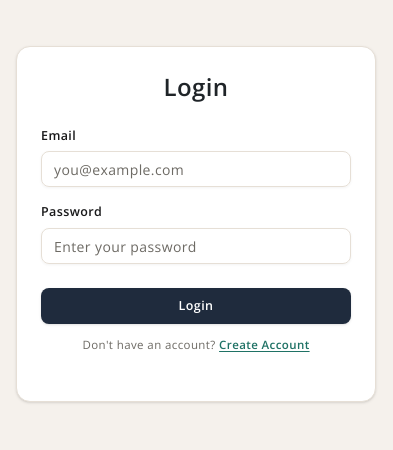
Scenario: LoginPage › shows an API error message on failed login
Type "ada@example.com" into the field labelled "Email" at point(196, 169), box [41,151,351,187]
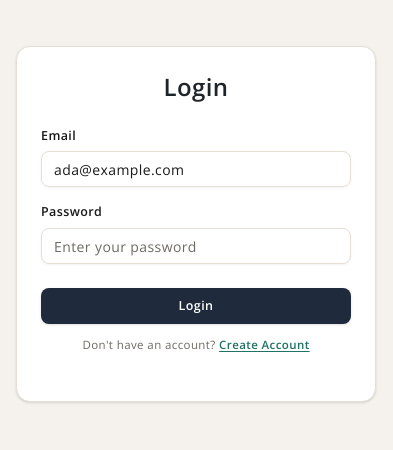
Type "Secret123" into the password field labelled "Password" at point(196, 246), box [41,228,351,264]
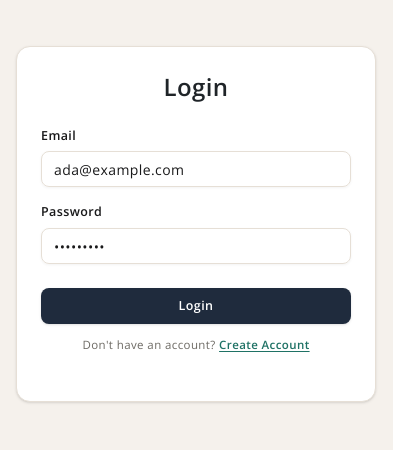
Click the button "Login" at point(196, 306), box [41,288,351,324]
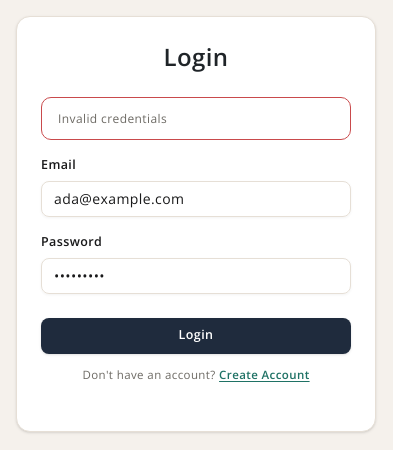
Check: the text "Invalid credentials" is shown, box [58,110,167,127]
